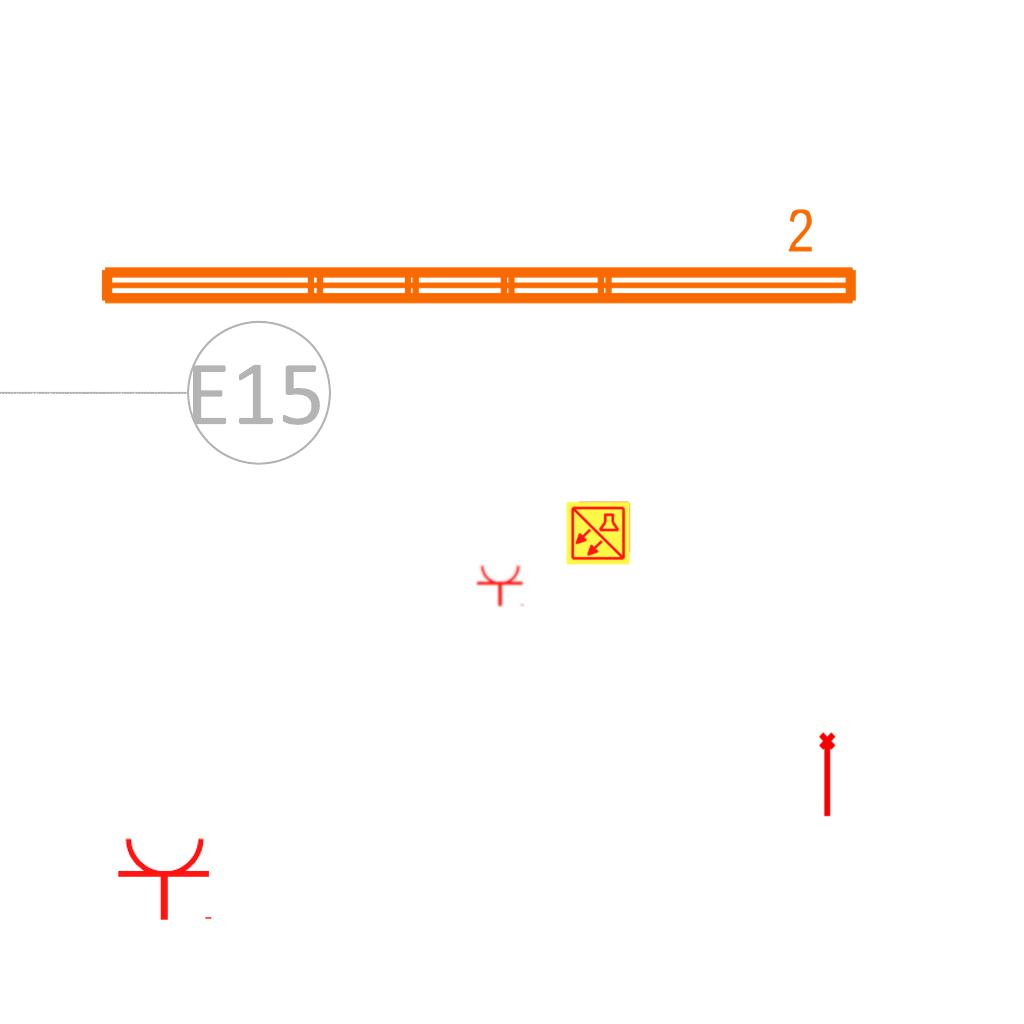ASR_Ansaugoeffnung: (817, 731, 840, 819)
Ambulanz_Pendelleuchte_LED: (91, 204, 865, 316)
OKW_Multisensormelder_(Kombination_optischer_Rauch-Kahlenmonoxid_Waerme-Melder): (565, 500, 631, 566)
Schukosteckdose_einfach: (116, 835, 216, 922), (476, 564, 526, 607)
